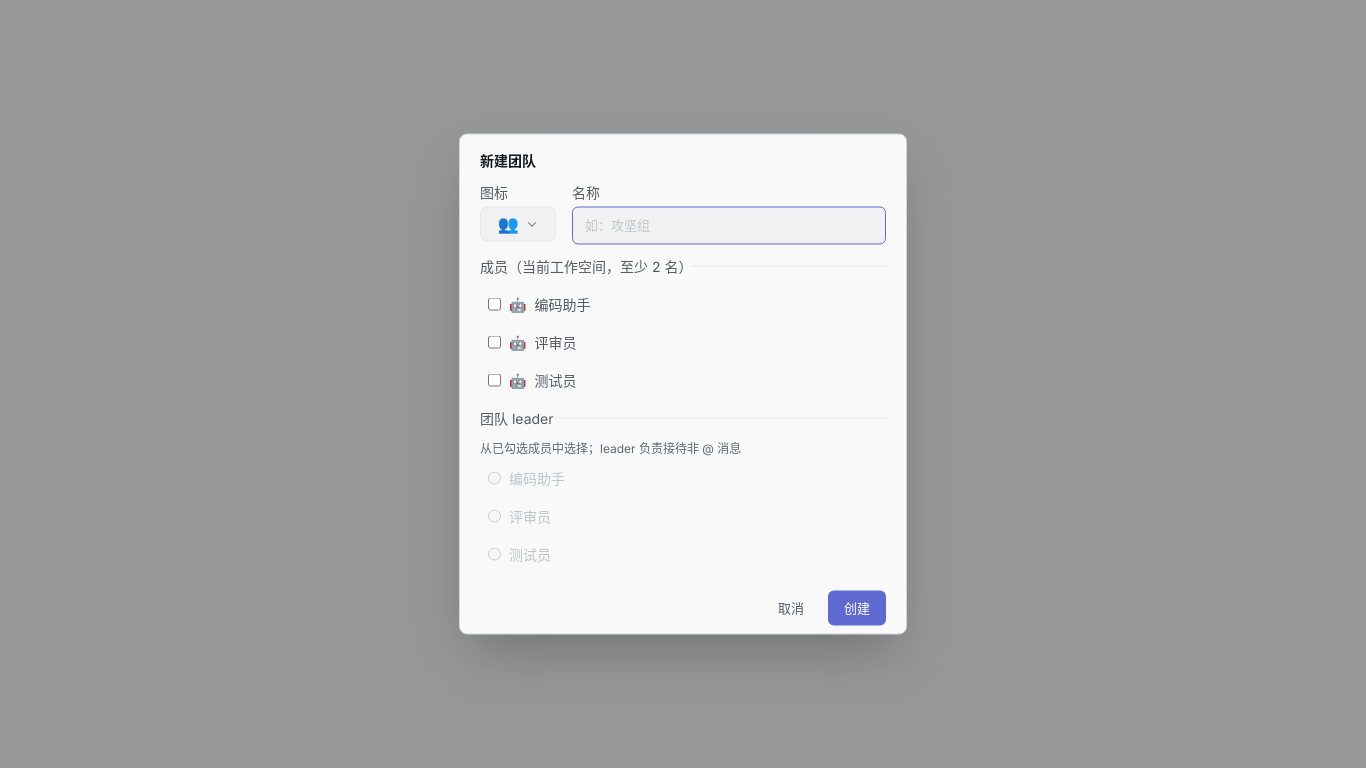
Scenario: TeamDialog — 创建模式校验 › 勾选 ≥2 成员但未选 leader → 提示选择 leader
Type "攻坚组" into the field labelled "名称".
click(729, 225); type("攻坚组")  # box [572,206,886,244]
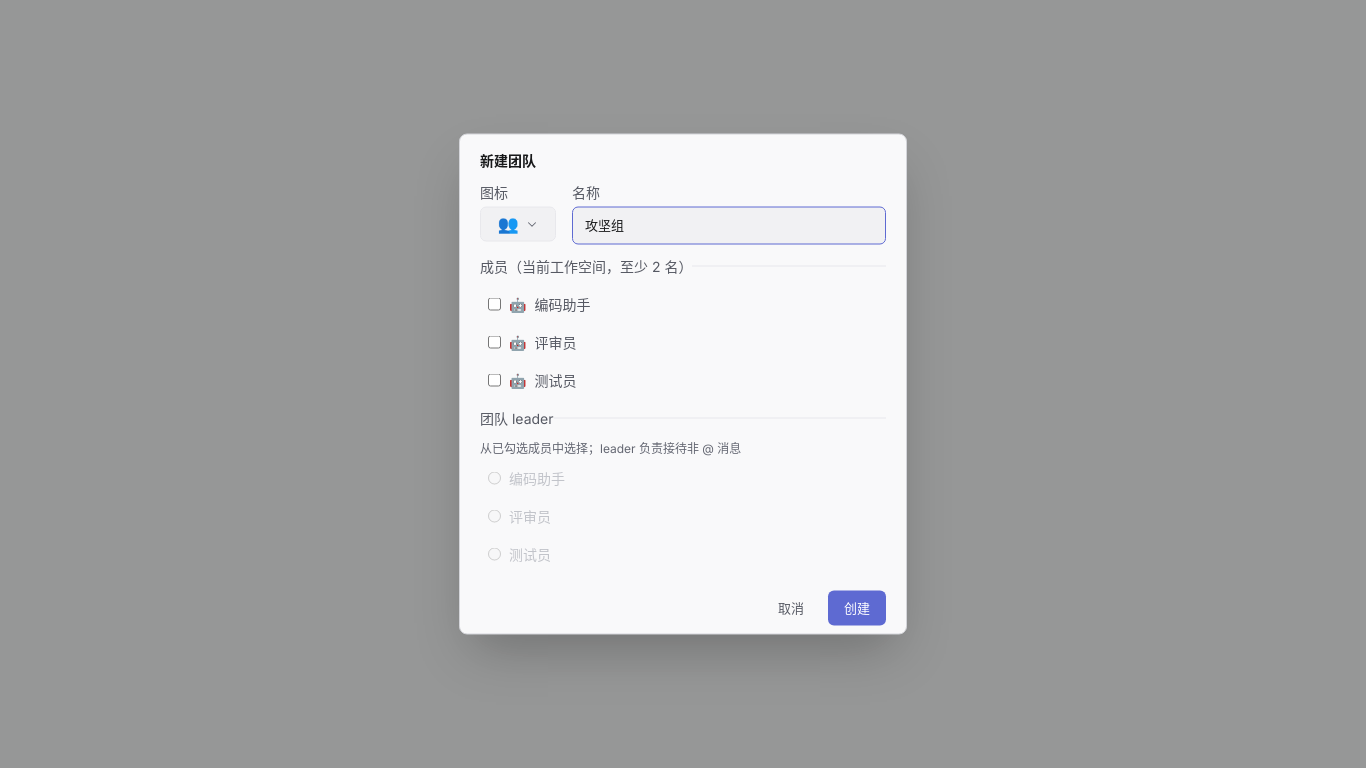
Click the checkbox labelled "编码助手".
click(494, 304)  # box [488,298,501,310]
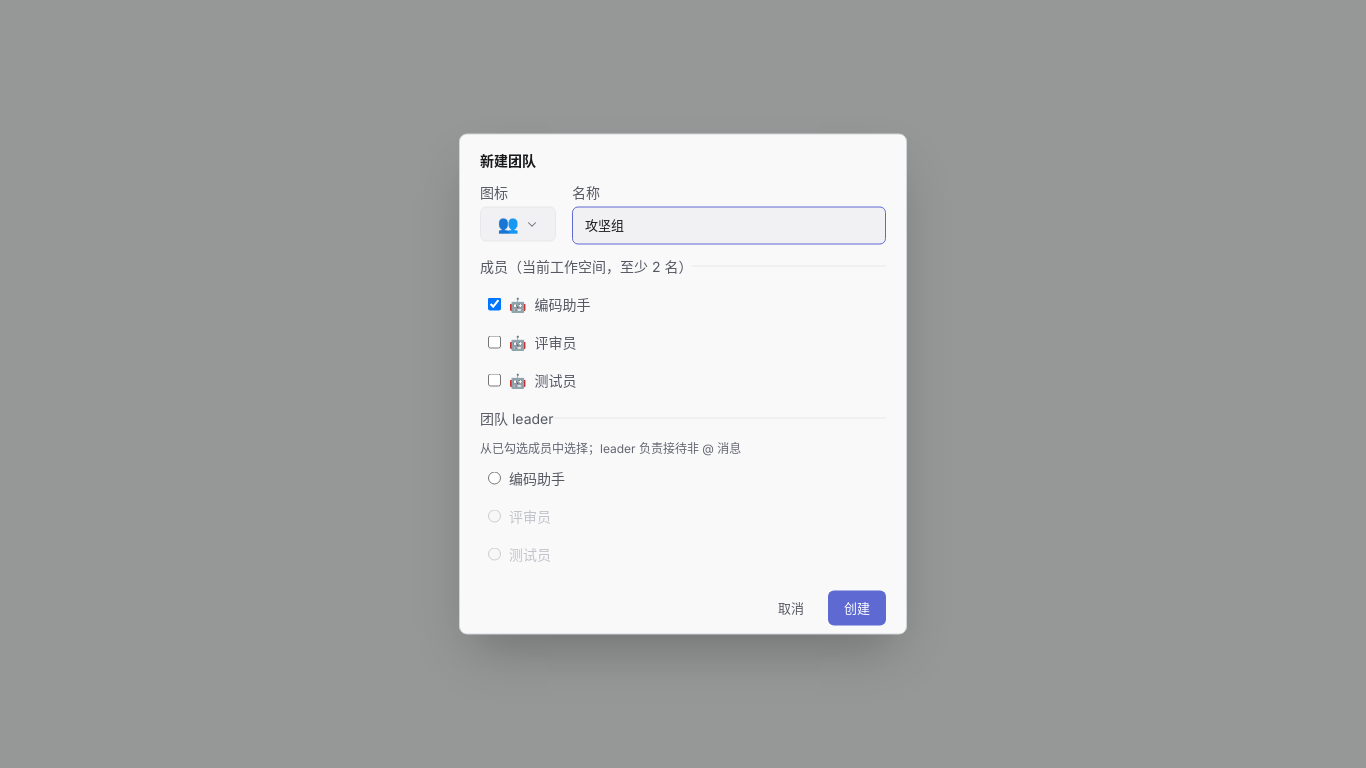
Click the checkbox labelled "评审员".
click(494, 342)  # box [488,336,501,348]
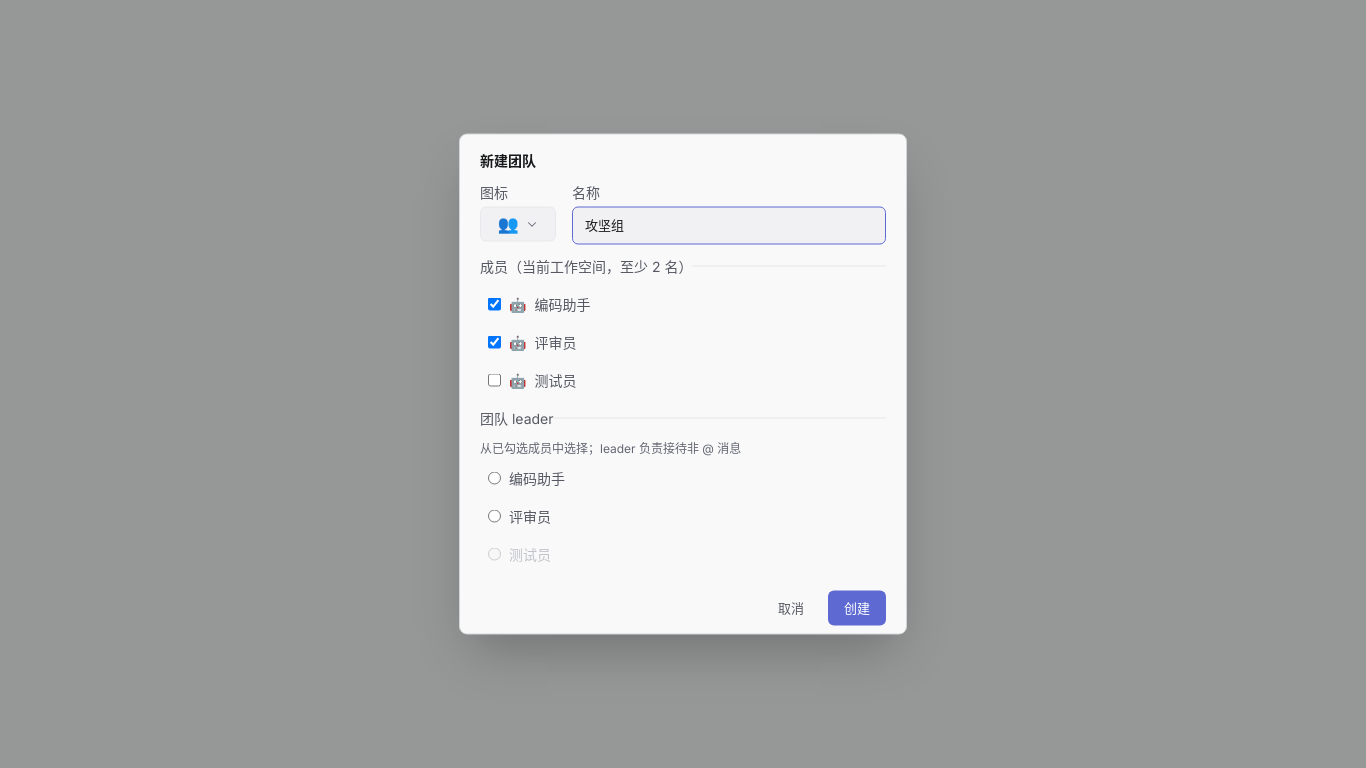
Click the button "创建".
click(857, 608)  # box [828,590,886,626]
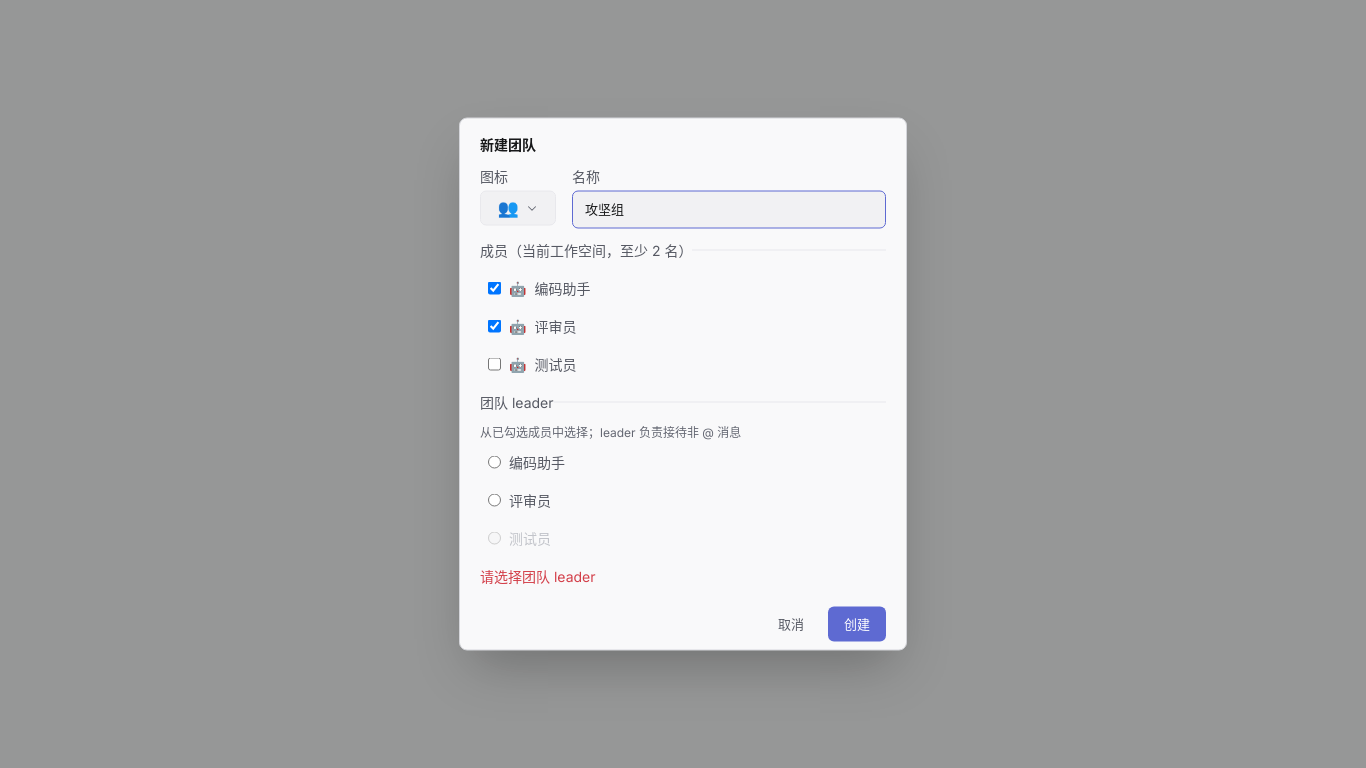
Expected: the text "请选择团队 leader" is shown, [480,567,596,584]
